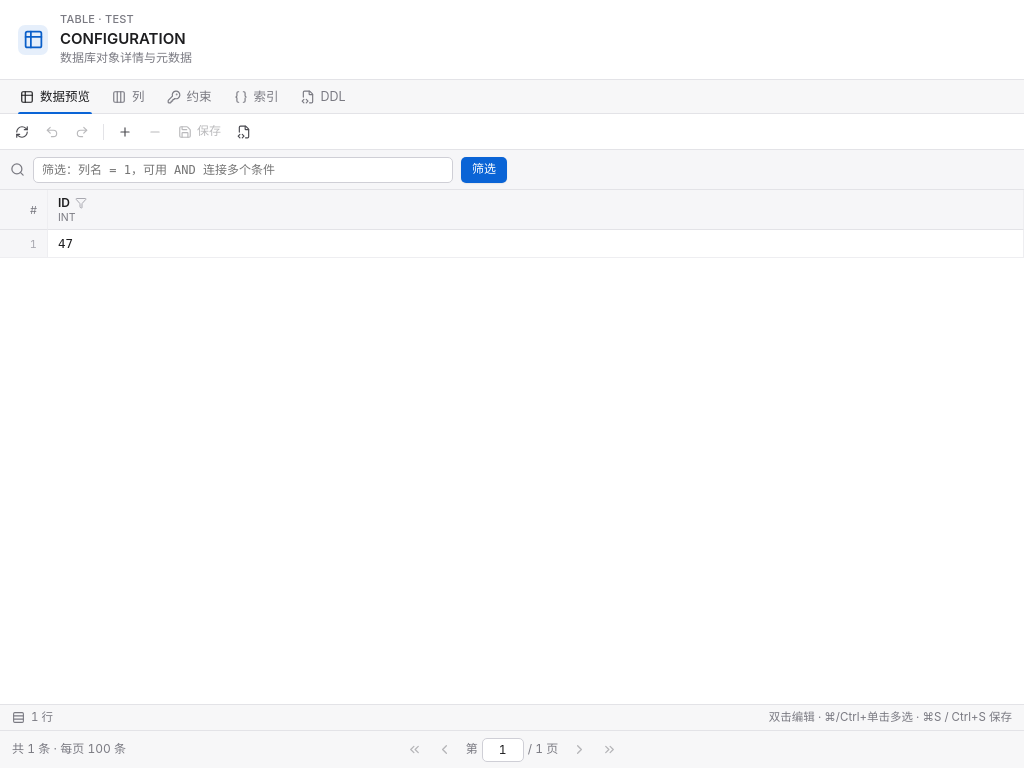
Scenario: ObjectView preview filter › stages a new row locally and supports undo
Click the button named "新增行".
click(125, 132)  # box [111,119,139,145]
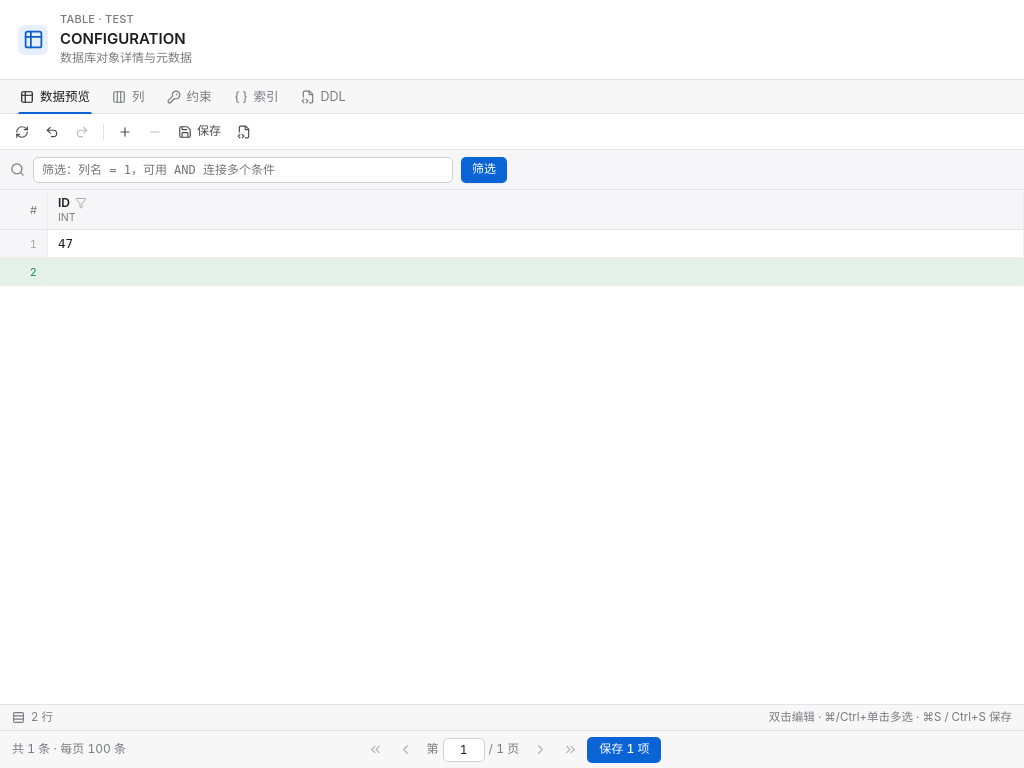
Result: the button with aria-label "保存修改" is enabled at [171,119,228,145]
Result: the button named "撤销草稿" is enabled
Click the button named "撤销草稿".
click(52, 132)  # box [38,119,66,145]
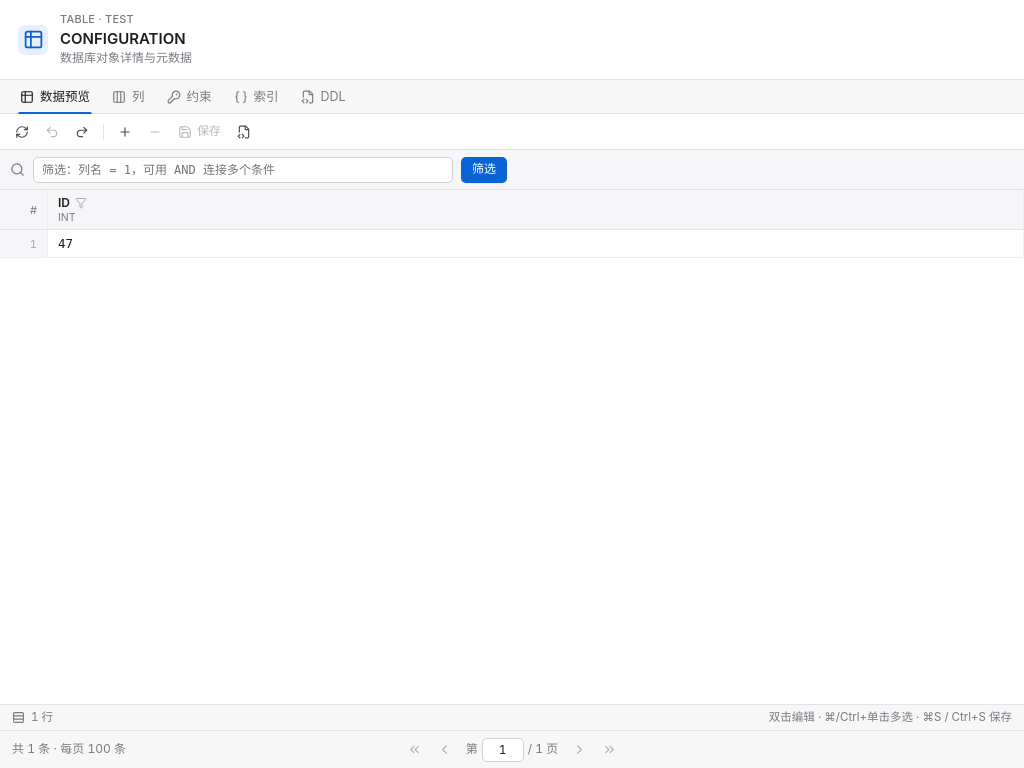
Result: the button with aria-label "保存修改" is disabled at [171,119,228,145]
